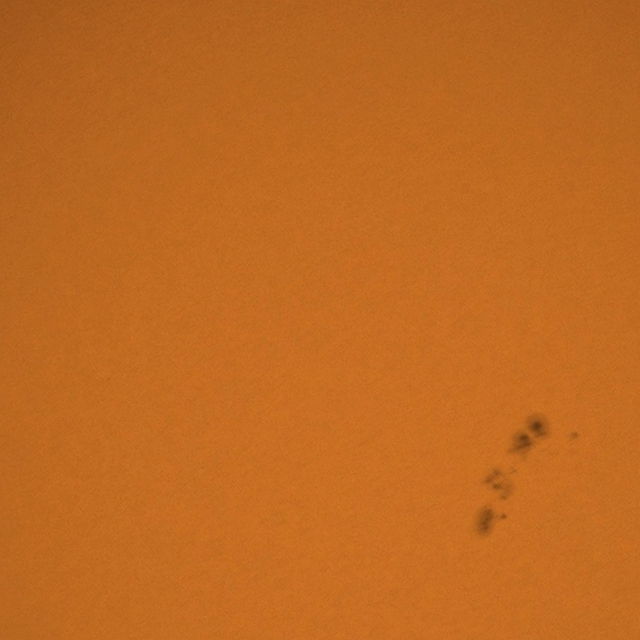sunspot: (483, 463, 518, 504), (512, 418, 548, 456), (480, 508, 508, 536)
